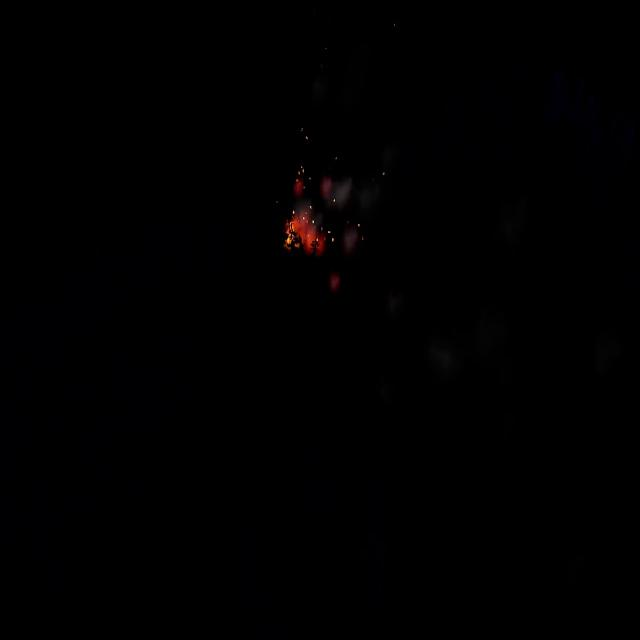fire: (294, 166, 306, 196), (303, 132, 311, 144)
smoke: (285, 174, 369, 257), (328, 273, 339, 293)
